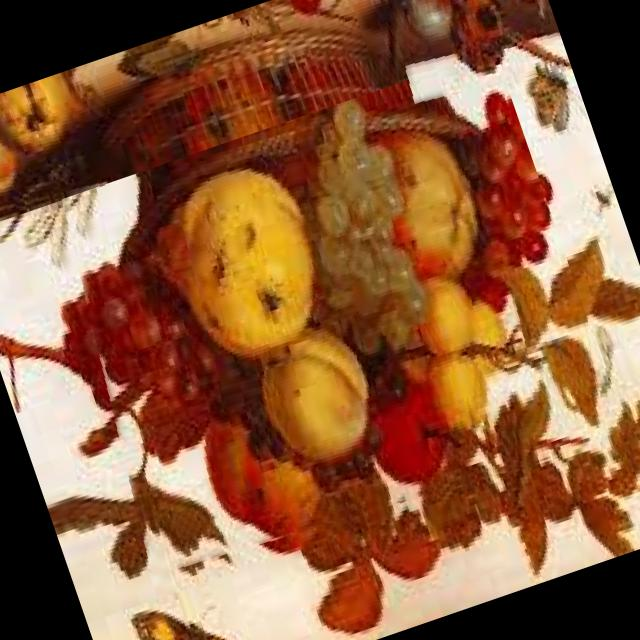Organic: (25, 49, 626, 596), (366, 0, 570, 117), (0, 70, 104, 236)
